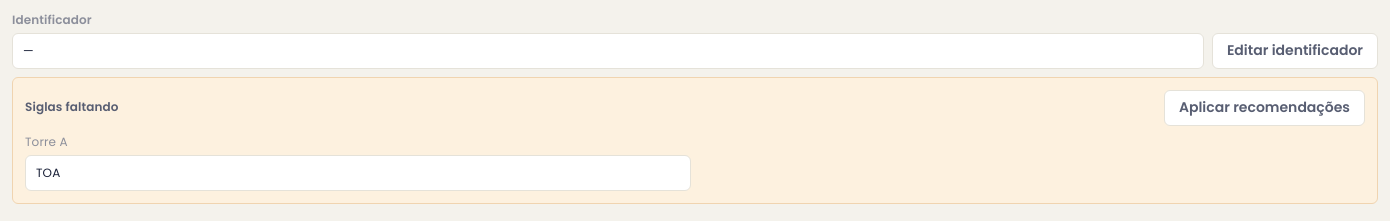
Test: CampoIdentificador › só preenche o identificador após aplicar as recomendações
Expected: the field showing "—" is shown, [12, 33, 1204, 69]
Click the button "Aplicar recomendações" at (1264, 108), box [1164, 90, 1365, 126]
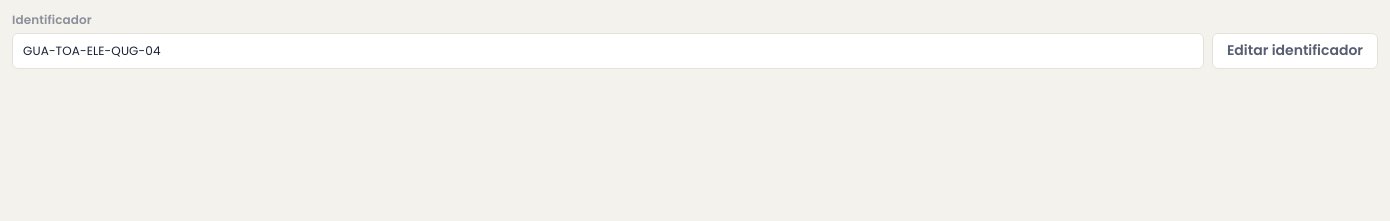
Now the field showing "GUA-TOA-ELE-QUG-04" is shown, box [12, 33, 1204, 69]
